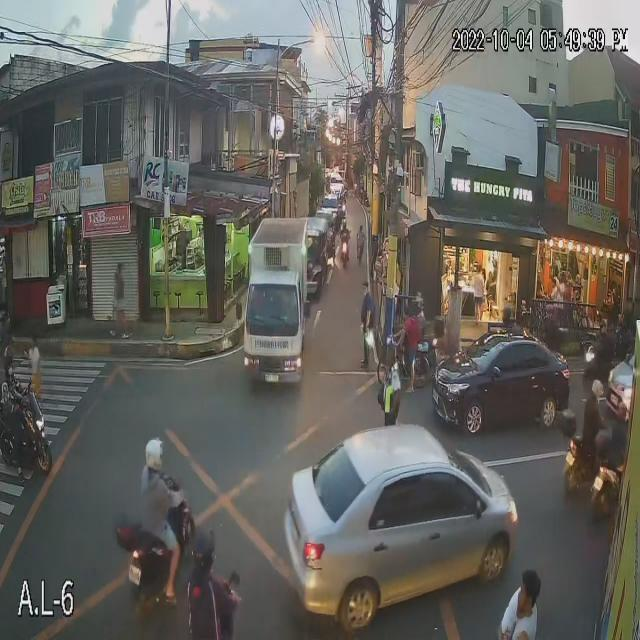helmet: (186, 526, 222, 587), (142, 430, 172, 478), (577, 375, 612, 406), (0, 345, 20, 385), (534, 299, 564, 321), (592, 314, 614, 344), (500, 305, 520, 331), (614, 400, 630, 425), (341, 217, 347, 228)
motorcycle: (124, 497, 194, 608), (0, 392, 66, 473), (550, 429, 610, 485), (203, 579, 252, 640), (585, 461, 627, 524), (581, 339, 617, 378), (334, 235, 354, 270)
rider: (136, 425, 176, 547), (189, 534, 231, 632), (567, 378, 606, 450), (0, 340, 29, 426), (604, 396, 629, 469), (538, 297, 565, 349), (597, 309, 615, 355), (498, 300, 513, 345), (338, 216, 352, 248)
